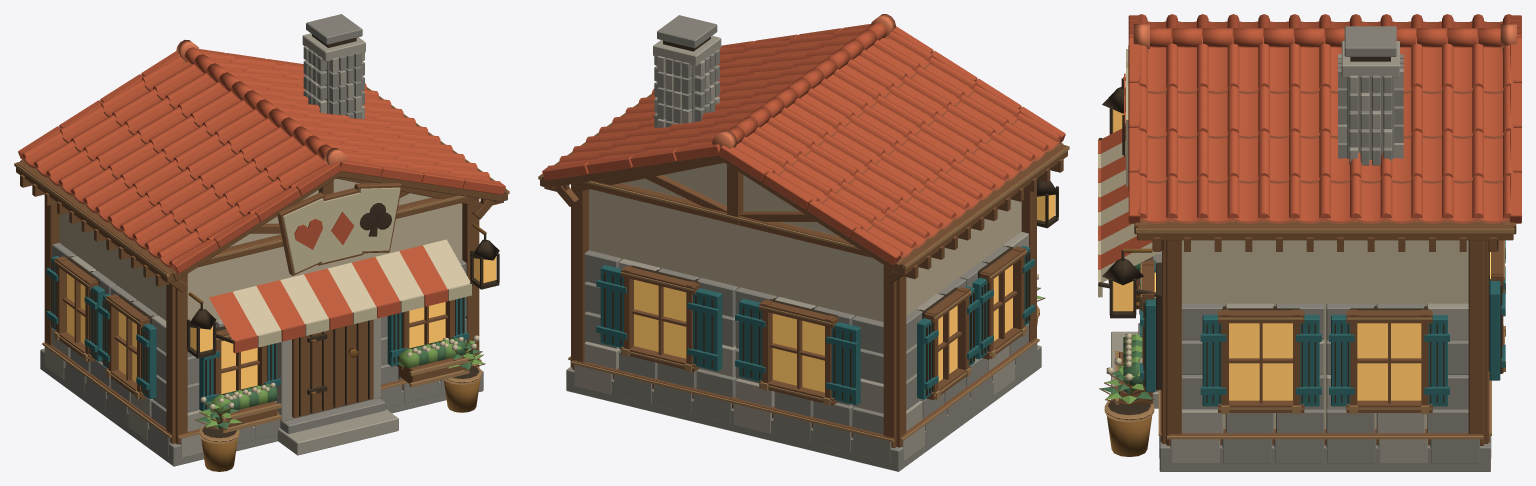
3 renders of one model, left to right at view 1: azimuth 30°, elevation 25°; view 2: azimuth 150°, elevation 25°; view 3: azimuth 270°, elevation 25°, orthographic. The views are drawn at different scales.
Parts seen in each view (by area): view 1: alpine_card_pavilion_geometry, alpine_card_pavilion_geometry ceramic; view 2: alpine_card_pavilion_geometry, alpine_card_pavilion_geometry ceramic; view 3: alpine_card_pavilion_geometry, alpine_card_pavilion_geometry ceramic.
Boxes of the visible parts, x1,y1,x2,y2 form: alpine_card_pavilion_geometry: (14,14,509,471); alpine_card_pavilion_geometry ceramic: (18,40,505,353); alpine_card_pavilion_geometry: (538,15,1069,471); alpine_card_pavilion_geometry ceramic: (542,14,1065,264); alpine_card_pavilion_geometry: (1098,22,1516,471); alpine_card_pavilion_geometry ceramic: (1098,14,1521,269).
Bounding box in the file's own units: 1.04 × 0.9181 × 0.8898.
